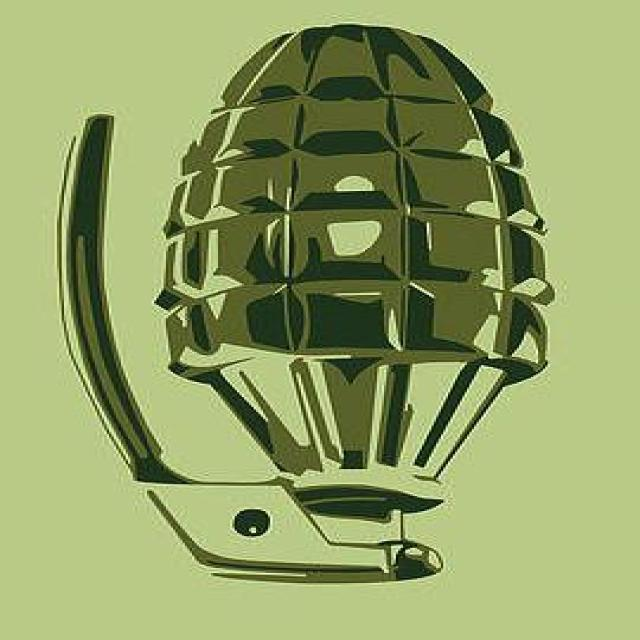grenade: (61, 25, 555, 588)
